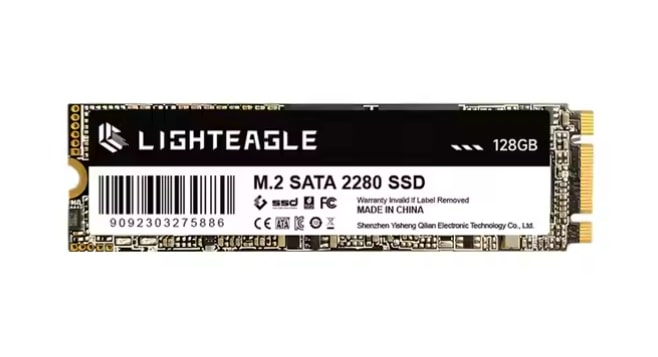ssd2280: (62, 98, 597, 254)
